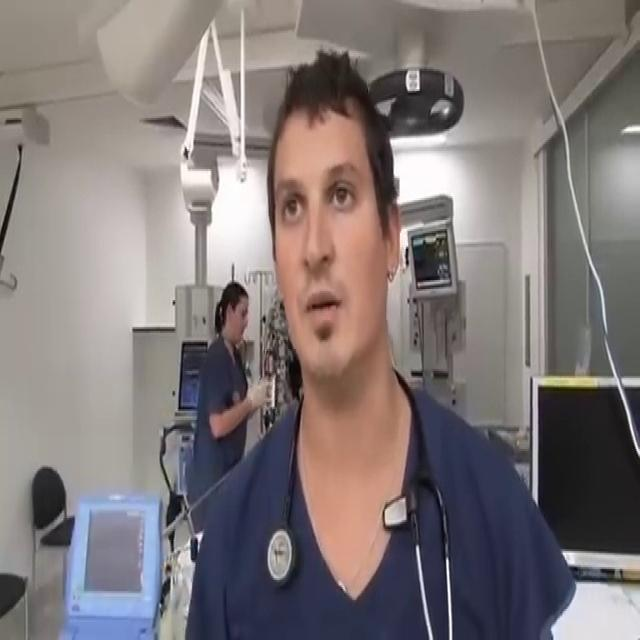doctor: (216, 47, 509, 640)
monitor: (529, 373, 639, 582), (65, 493, 163, 622), (406, 218, 458, 298), (175, 338, 208, 415)
nurse: (184, 280, 271, 533)
